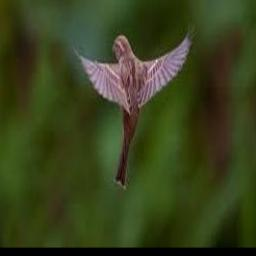Sparrow: (71, 24, 195, 189)
